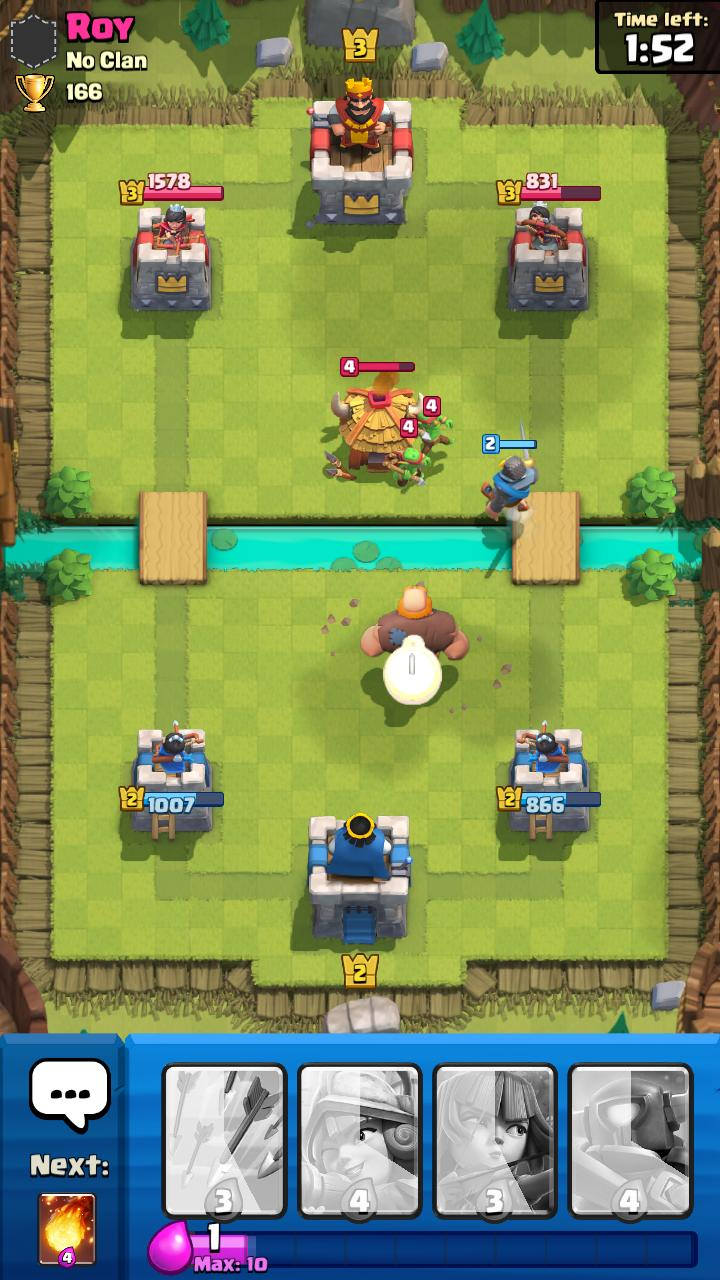ally: (360, 586, 469, 660), (481, 418, 539, 522)
enemy: (325, 357, 426, 481), (383, 417, 431, 486), (409, 396, 455, 454)
